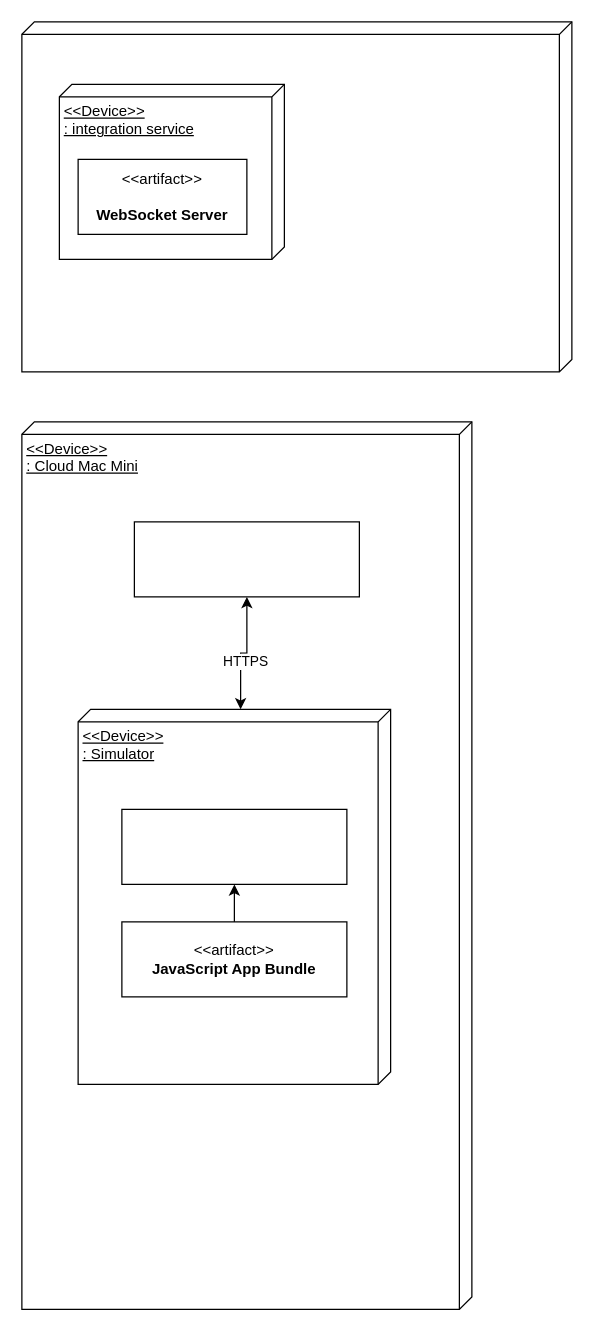
Some shapes in this 594 by 1331 pixel diagram are drawn without their labels. Here are the shapes that lost their labels. From the top down, the box of each, then its label:
(21, 21, 572, 372): <<Device>> : Drone CI
(133, 521, 359, 597): <<artifact>> Expo Dev Server
(121, 808, 347, 884): <<artifact>> Expo GO
